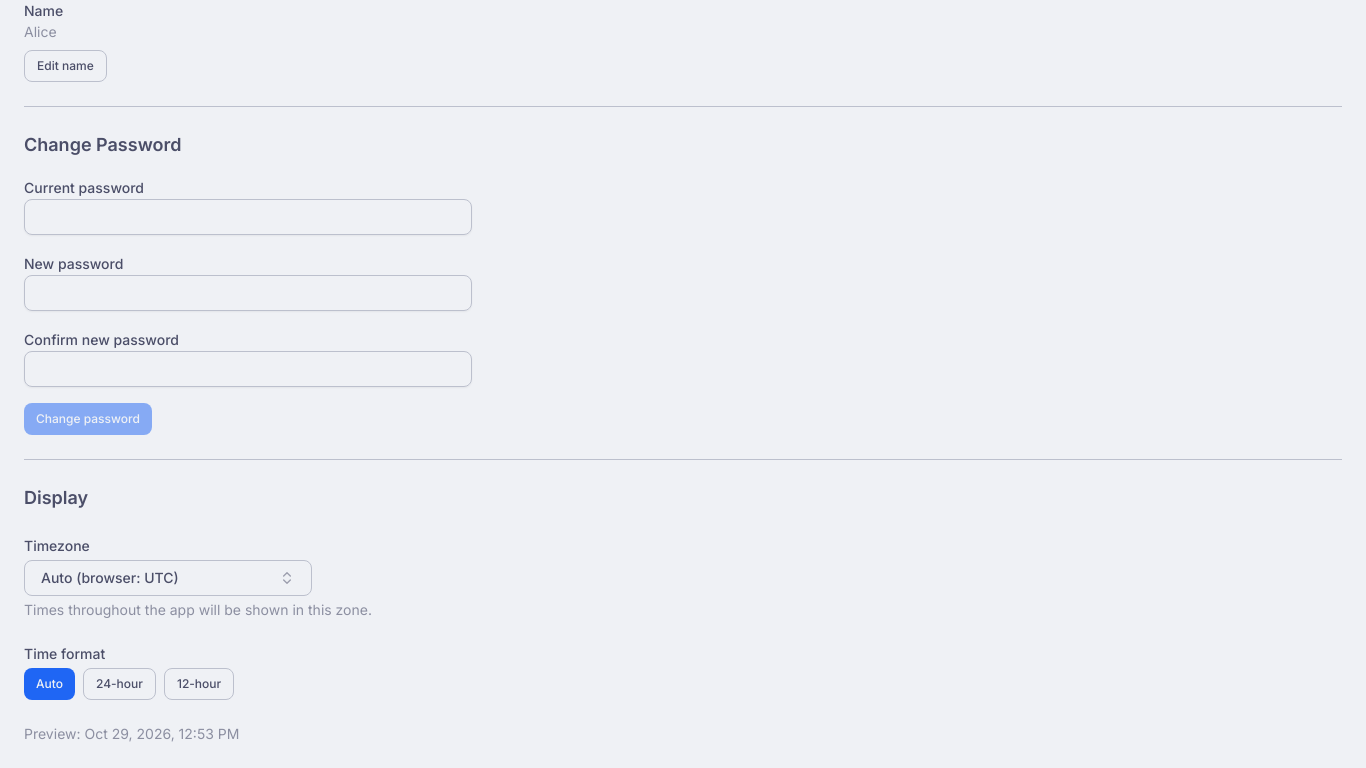
ProfilePage › Display section › picking timezone Asia/Tokyo stores Asia/Tokyo
The width and height of the screenshot is (1366, 768).
(page scrolled)
Click the dropdown at (168,578), box [24,560,312,596]
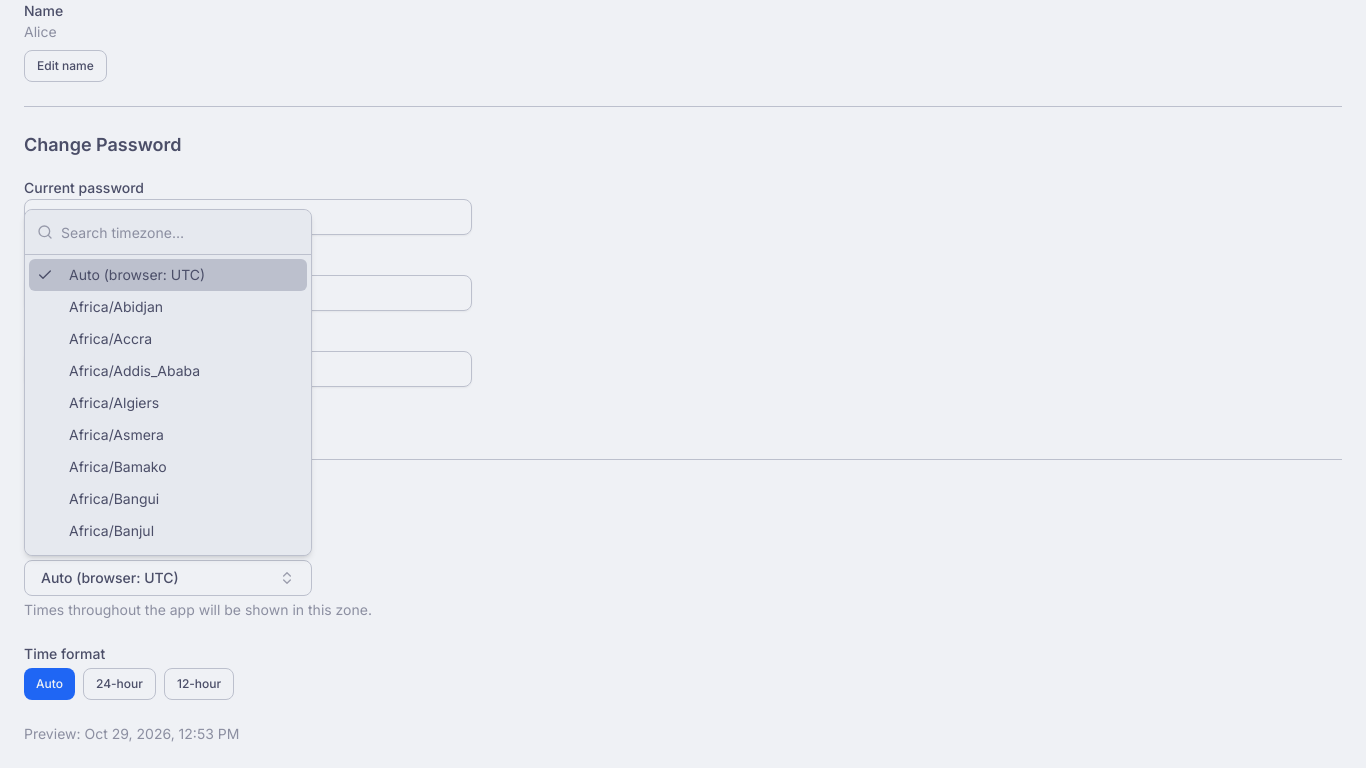
Type "Asia/Tokyo" into the dropdown with placeholder "Search timezone…" at (180,232), box [61,210,299,254]
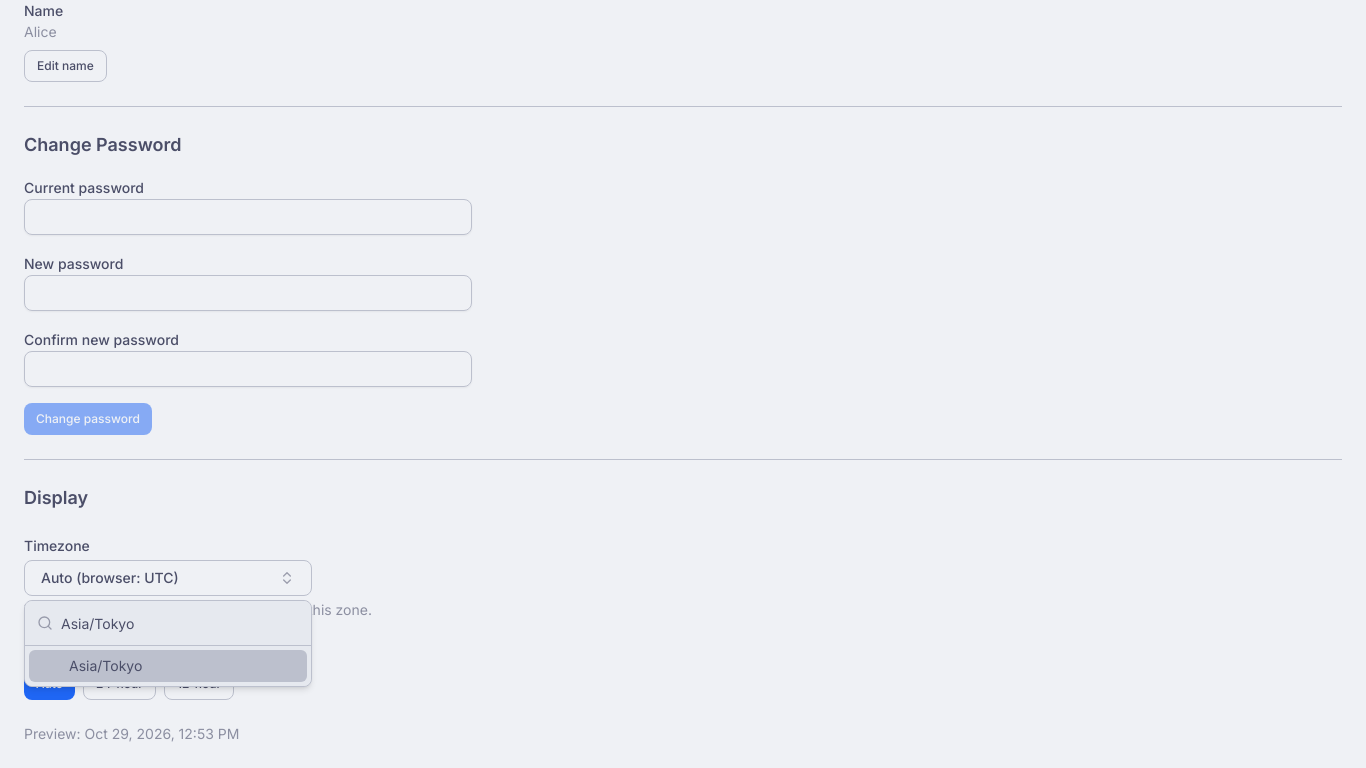
Click the option "Asia/Tokyo" at (106,666), box [29,650,307,682]
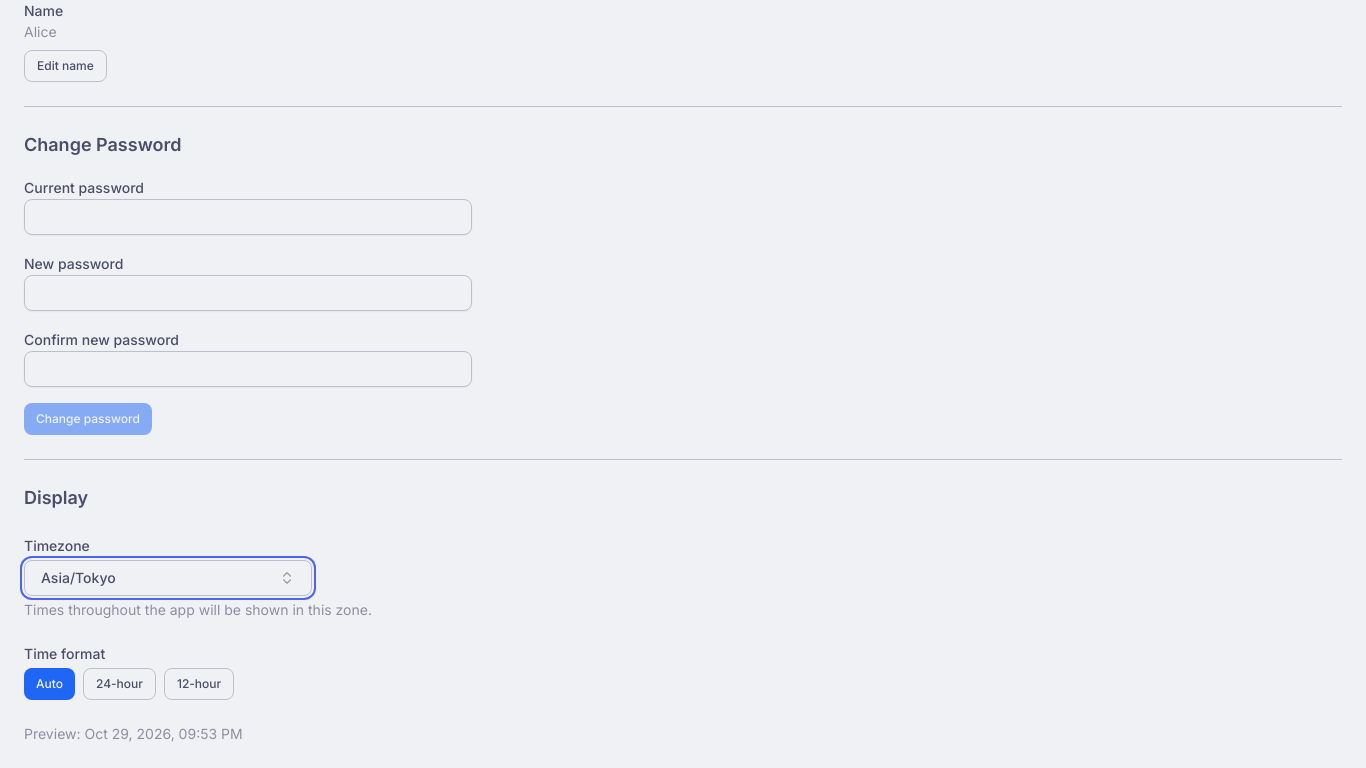
Expected: the text "Asia/Tokyo" is shown, [41,568,116,588]
